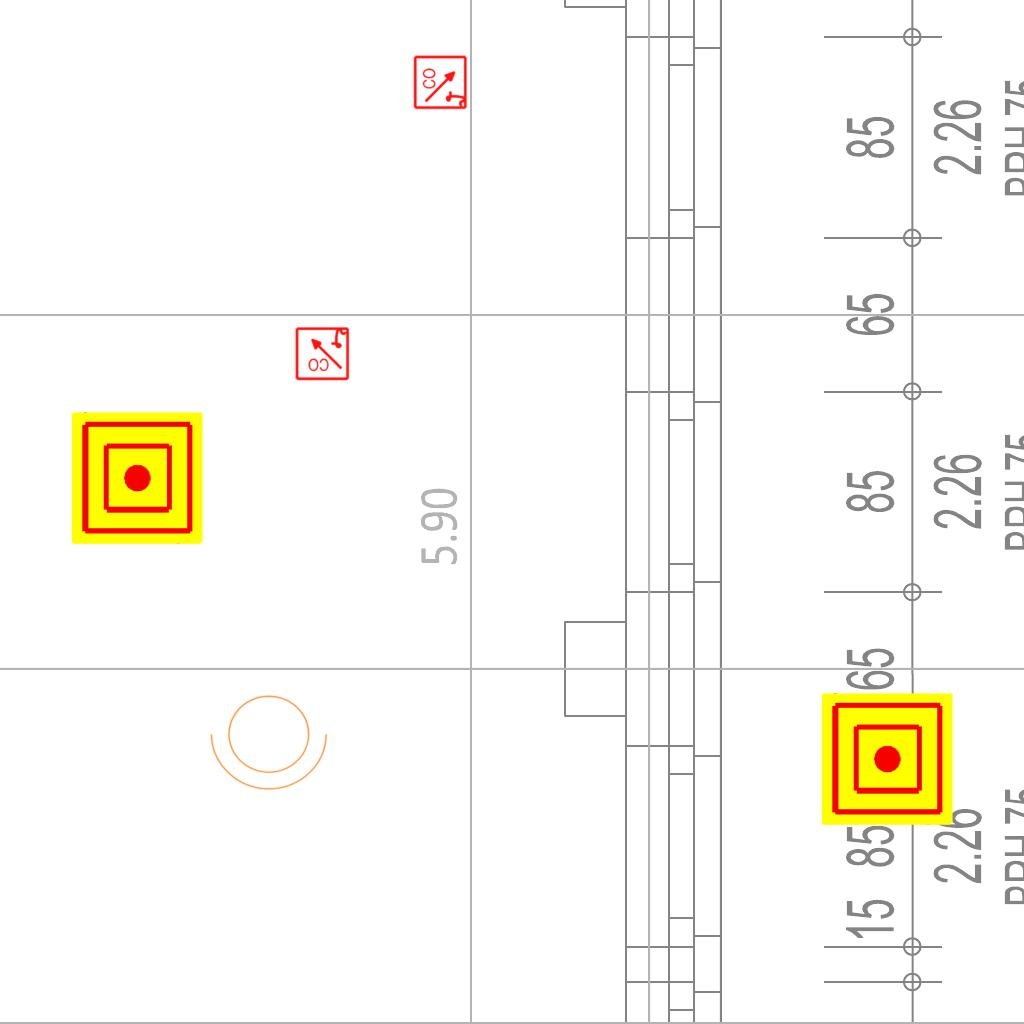NAM-Nichtautomatischer_Melder: (71, 412, 203, 544), (821, 693, 953, 825)
ROA_Rauchmelder_optisch_mit_Signalgeber_(Sockelsirene): (413, 54, 469, 110), (294, 325, 350, 381)
Scheinwerfer_fuer_Alarmbeleuchtung: (206, 683, 338, 795)
